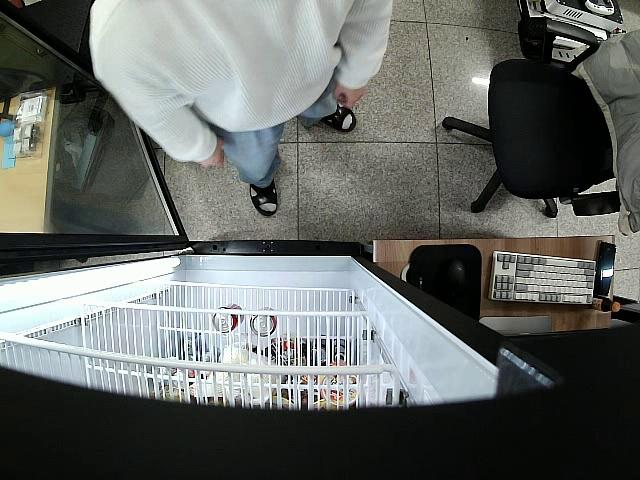00_hand: (333, 81, 366, 109)
